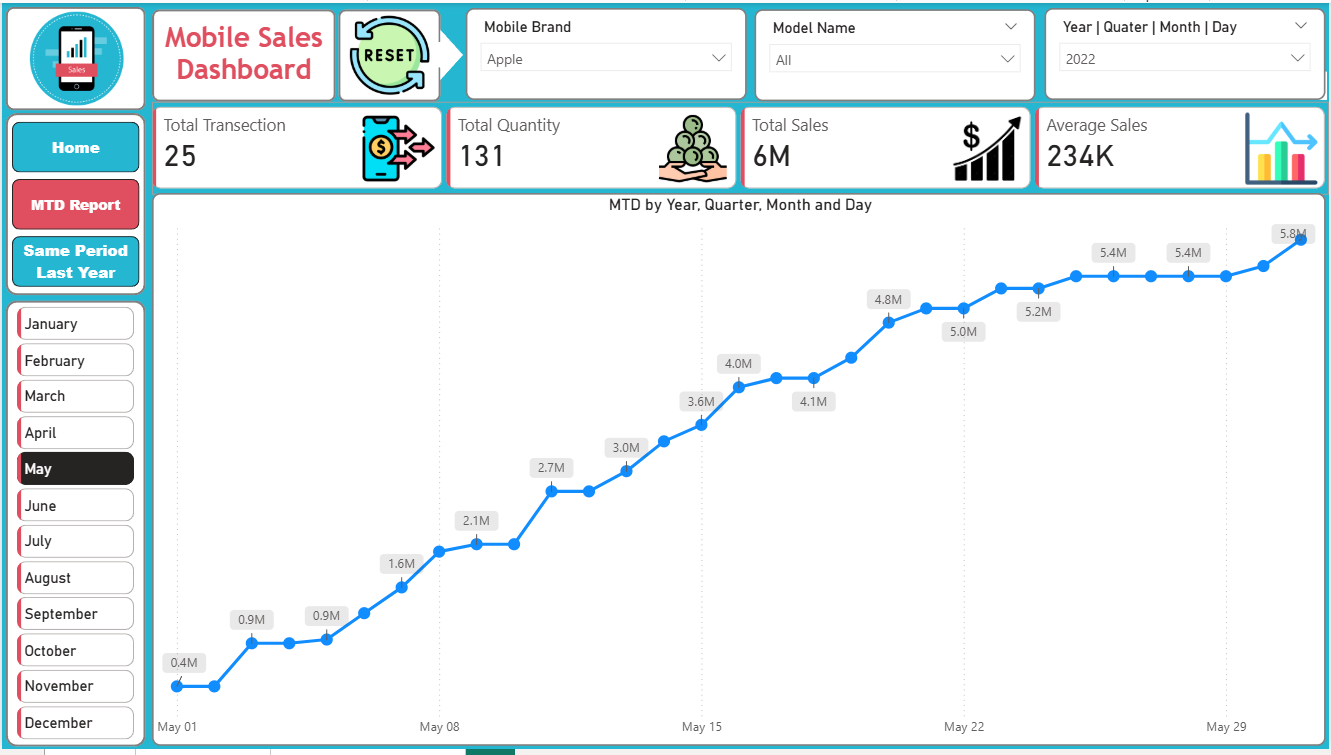

The dashboard page shown, as its layout file describes it:
{"tool":"powerbi","page":{"name":"MTD Report","canvas":[1280,720],"ordinal":1},"visuals":[{"type":"shape","box":[3.6,3.6,135.1,100.1],"z":0},{"type":"image","box":[20.5,3.6,102.5,100.1],"z":1000},{"type":"shape","box":[3.6,106.2,135.1,176],"z":2000},{"type":"shape","box":[3.6,287.1,135,430.7],"z":3000},{"type":"advancedSlicerVisual","fields":{"Values":["Custom Calender.Date.Variation.Date Hierarchy.Month"]},"box":[9.7,288.3,123.1,428.3],"z":4000},{"type":"cardVisual","fields":{"Data":["_Measures.Total Transection","_Measures.Total Quantity","_Measures.Total Sales","_Measures.Avg Sales"]},"box":[144.8,95.3,1135,89.3],"z":5000},{"type":"slicer","fields":{"Values":["Sales Data.Brand"]},"box":[447.6,4.8,271.4,89],"z":6000},{"type":"slicer","fields":{"Values":["Sales Data.Mobile Model"]},"box":[726.3,6,271.4,89],"z":7000},{"type":"slicer","fields":{"Values":["Custom Calender.Date.Variation.Date Hierarchy.Year","Custom Calender.Date.Variation.Date Hierarchy.Quarter","Custom Calender.Date.Variation.Date Hierarchy.Month","Custom Calender.Date.Variation.Date Hierarchy.Day"]},"box":[1006.2,4.8,271.4,89],"z":8000},{"type":"shape","box":[324.5,6,98.9,89.3],"z":9000},{"type":"shape","box":[144.8,6,177.3,89.3],"z":10000},{"type":"textbox","box":[144.8,13.3,177.3,71.2],"z":11000},{"type":"shape","box":[400.5,25.3,44.6,49.5],"z":12000},{"type":"image","box":[326.9,7.2,94.1,86.9],"z":13000},{"type":"lineChart","fields":{"Category":["Custom Calender.Date.Variation.Date Hierarchy.Year","Custom Calender.Date.Variation.Date Hierarchy.Quarter","Custom Calender.Date.Variation.Date Hierarchy.Month","Custom Calender.Date.Variation.Date Hierarchy.Day"],"Y":["_Measures.MTD"]},"box":[144.8,183.4,1132.8,533.2],"z":14000},{"type":"pageNavigator","box":[9.7,114.6,123.1,159.3],"z":15000}]}

Visuals, with their boxes in screenshot pixels (x1, y1, x2, y2), scaled from the page's 1280x720 canvas onto the 1331x755 screenshot:
shape: [x1=4, y1=4, x2=144, y2=109]
image: [x1=21, y1=4, x2=128, y2=109]
shape: [x1=4, y1=111, x2=144, y2=296]
shape: [x1=4, y1=301, x2=144, y2=753]
advancedSlicerVisual - Custom Calender.Date.Variation.Date Hierarchy.Month: [x1=10, y1=302, x2=138, y2=751]
cardVisual - _Measures.Total Transection x _Measures.Total Quantity: [x1=151, y1=100, x2=1330, y2=194]
slicer - Sales Data.Brand: [x1=465, y1=5, x2=748, y2=98]
slicer - Sales Data.Mobile Model: [x1=755, y1=6, x2=1037, y2=100]
slicer - Custom Calender.Date.Variation.Date Hierarchy.Year x Custom Calender.Date.Variation.Date Hierarchy.Quarter: [x1=1046, y1=5, x2=1329, y2=98]
shape: [x1=337, y1=6, x2=440, y2=100]
shape: [x1=151, y1=6, x2=335, y2=100]
textbox: [x1=151, y1=14, x2=335, y2=89]
shape: [x1=416, y1=27, x2=463, y2=78]
image: [x1=340, y1=8, x2=438, y2=99]
lineChart - Custom Calender.Date.Variation.Date Hierarchy.Year x Custom Calender.Date.Variation.Date Hierarchy.Quarter: [x1=151, y1=192, x2=1329, y2=751]
pageNavigator: [x1=10, y1=120, x2=138, y2=287]
